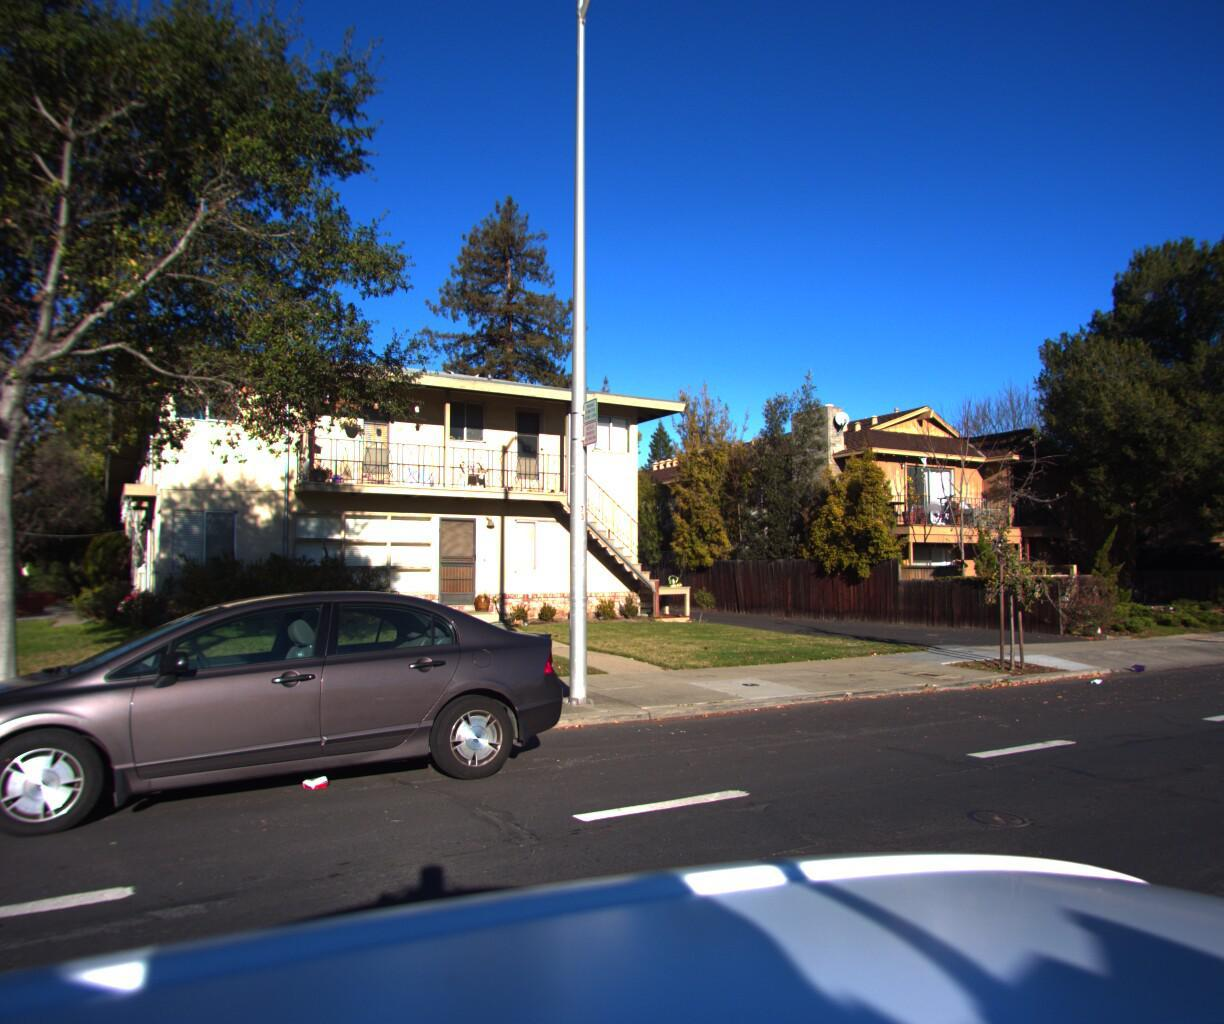bicycle: (917, 493, 964, 527), (1111, 573, 1147, 605)
car: (0, 583, 598, 893)
